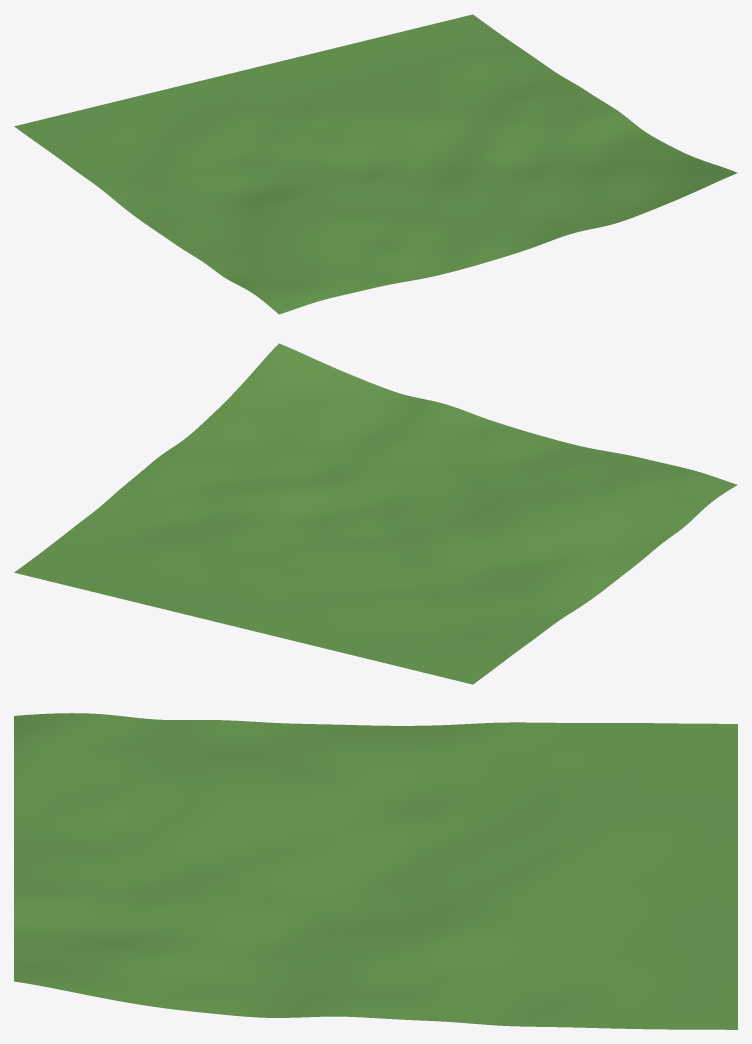
File: SM_Terrain_02_00.fbx
3 views of the same model, one above another, from view 1: azimuth 30°, elevation 25°; view 2: azimuth 150°, elevation 25°; view 3: azimuth 270°, elevation 25° (orthographic). The views are drawn at different scales.
Visible parts, largest first — view 1: SM_Terrain_02_00; view 2: SM_Terrain_02_00; view 3: SM_Terrain_02_00.
Part boxes in pixels (bbox=[...]): SM_Terrain_02_00: bbox=[14, 14, 737, 314]; SM_Terrain_02_00: bbox=[14, 343, 737, 684]; SM_Terrain_02_00: bbox=[14, 713, 737, 1029].
Bounding box in the file's own units: 384 × 29.47 × 384.
